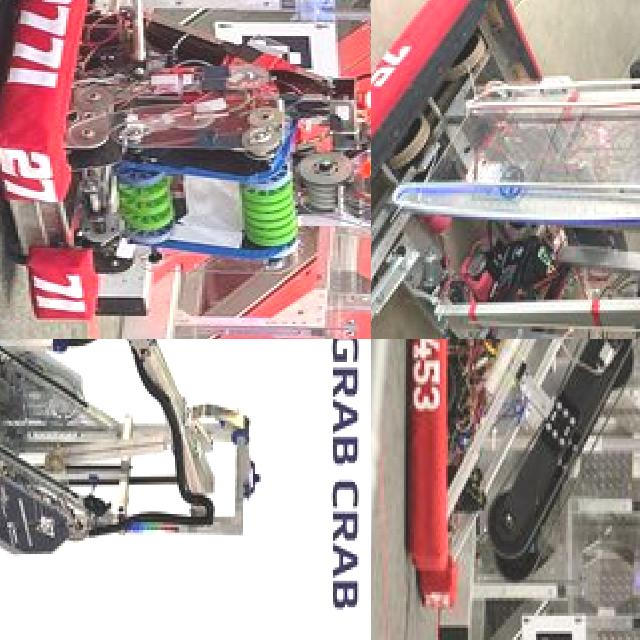FRC-Robots: (0, 0, 371, 339), (371, 0, 640, 339), (0, 339, 284, 640), (379, 339, 599, 640)
